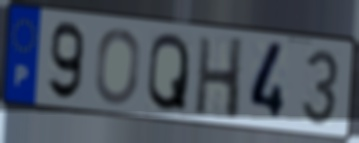3: (298, 47, 343, 128)
4: (246, 38, 292, 127)
9: (46, 21, 87, 103)
H: (193, 34, 246, 123)
O: (93, 26, 143, 107)
Q: (145, 30, 191, 114)
